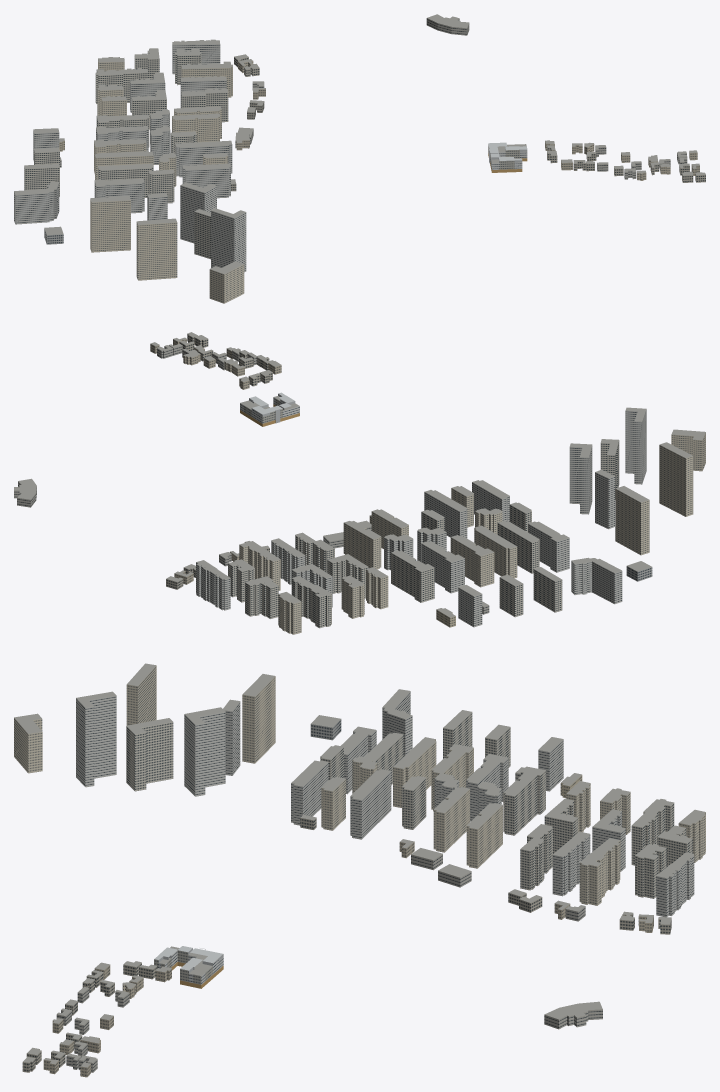
3 views of the same model, one above another, from view 1: azimuth 30°, elevation 25°; view 2: azimuth 150°, elevation 25°; view 3: azimuth 270°, elevation 25° (orthographic). The views are drawn at different scales.
Parts seen in each view (by area): view 1: ctx-apartments-c, ctx-roof, ctx-apartments-b, ctx-apartments, ctx-other, ctx-other-b, ctx-other-c; view 2: ctx-apartments-c, ctx-apartments-b, ctx-roof, ctx-apartments, ctx-other-c, ctx-other, ctx-other-b, ctx-knou-core; view 3: ctx-apartments-c, ctx-roof, ctx-apartments-b, ctx-apartments, ctx-other-c, ctx-other, ctx-other-b, ctx-knou-core.
Part boxes in pixels (<box>): ctx-apartments-c: <box>14,41,246,272</box>; ctx-roof: <box>14,14,705,274</box>; ctx-apartments-b: <box>90,59,244,303</box>; ctx-apartments: <box>24,50,228,259</box>; ctx-other: <box>231,57,705,191</box>; ctx-other-b: <box>236,61,699,180</box>; ctx-other-c: <box>60,18,687,179</box>; ctx-apartments-c: <box>196,409,646,627</box>; ctx-apartments-b: <box>239,432,705,634</box>; ctx-roof: <box>14,332,705,617</box>; ctx-apartments: <box>228,440,619,628</box>; ctx-other-c: <box>14,345,489,614</box>; ctx-other: <box>166,333,272,589</box>; ctx-other-b: <box>150,339,371,584</box>; ctx-knou-core: <box>249,392,295,423</box>; ctx-apartments-c: <box>76,691,694,917</box>; ctx-roof: <box>14,663,705,1067</box>; ctx-apartments-b: <box>14,665,705,905</box>; ctx-apartments: <box>126,712,692,898</box>; ctx-other-c: <box>56,773,602,1072</box>; ctx-other: <box>22,818,671,1072</box>; ctx-other-b: <box>43,841,653,1077</box>; ctx-knou-core: <box>154,946,223,972</box>.
Size of the model in its own units: 915 by 110 by 726.
14 materials, 11 textured.
